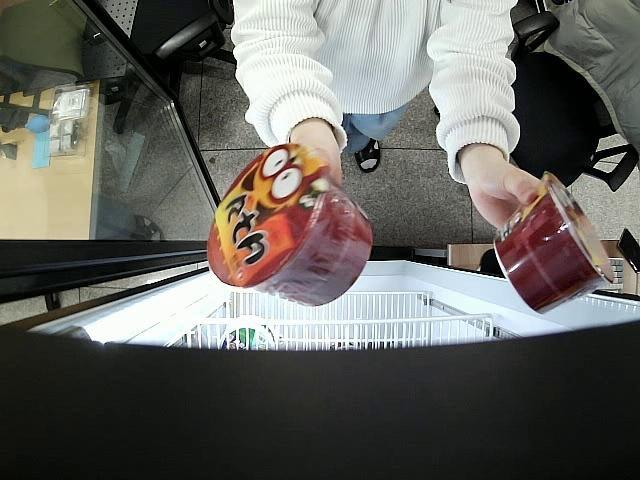05_nuguri_L: (206, 144, 372, 308), (493, 174, 614, 316)
